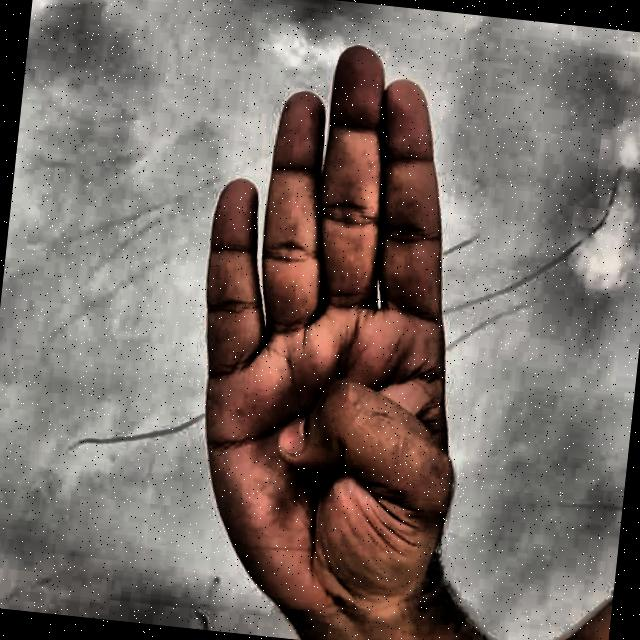Ba: (130, 17, 546, 640)
